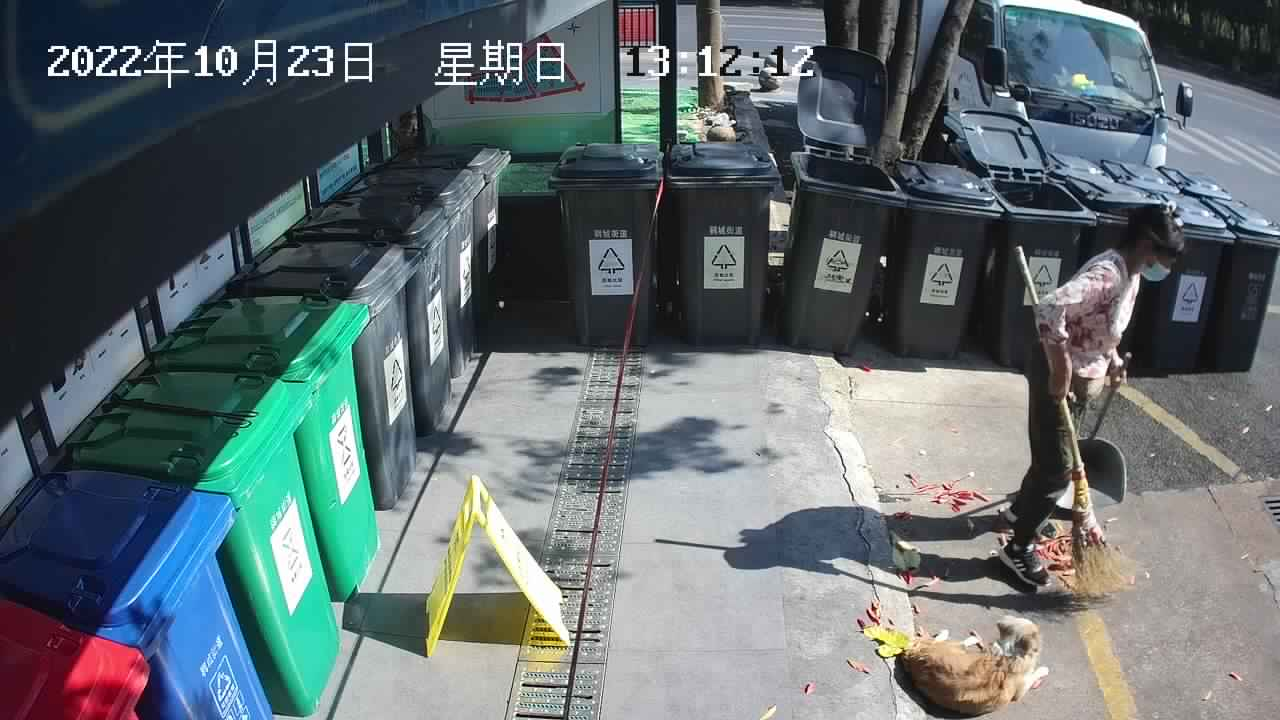bumingwu: (895, 611, 1055, 720)
person: (993, 200, 1191, 595)
